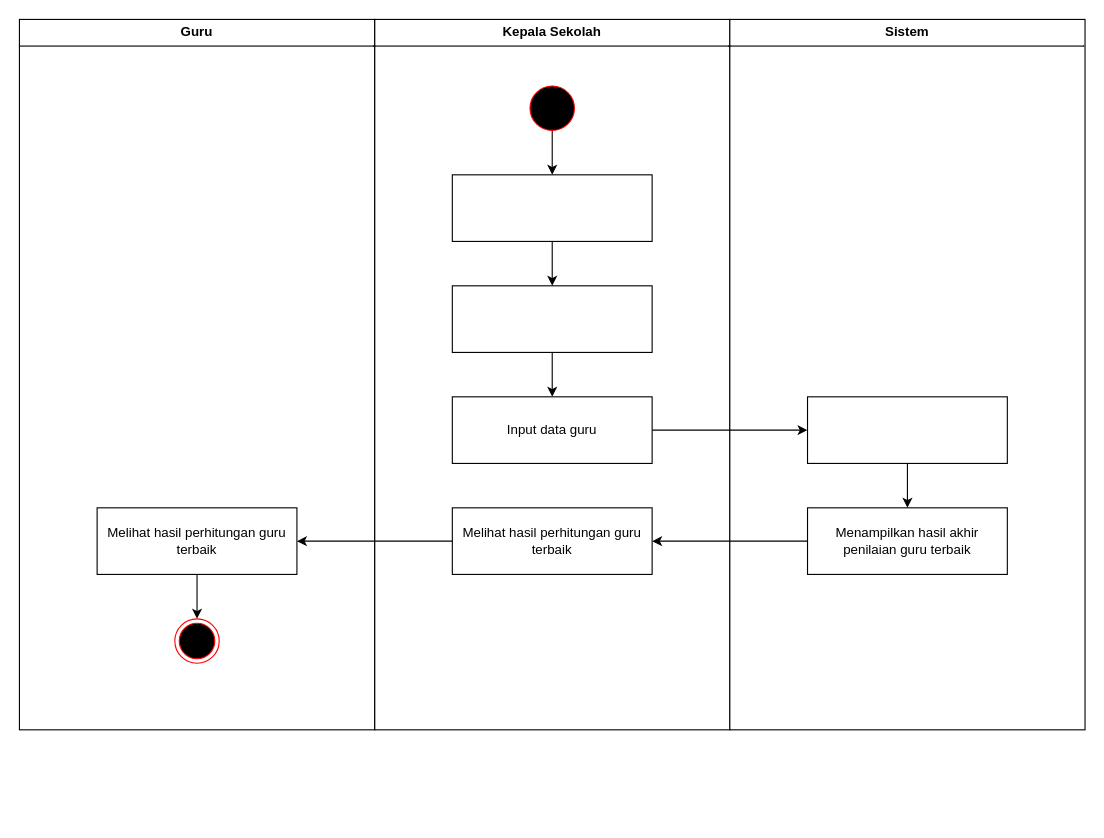
This 1104x838 diagram has some shape labels left out. The shapes that lost their labels are listed below. From the top down, each one's centre as x and y in pixels, then its label:
At point 551,207: "Mengumpulkan data dari setiap guru".
At point 551,318: "Menentuan kriteria dan skala penilaian".
At point 906,429: "Melakukan perhitungan menggunakan metode ARAS".
